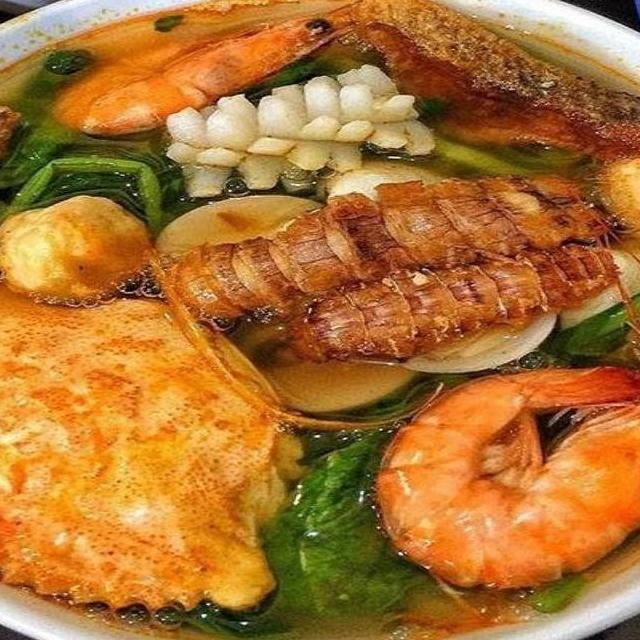bun hai san: (0, 2, 640, 640)
ca: (348, 0, 640, 166)
muc: (159, 55, 441, 206)
tom: (365, 328, 640, 592), (44, 0, 361, 139)
tom tit: (144, 165, 634, 333), (242, 235, 633, 376)
